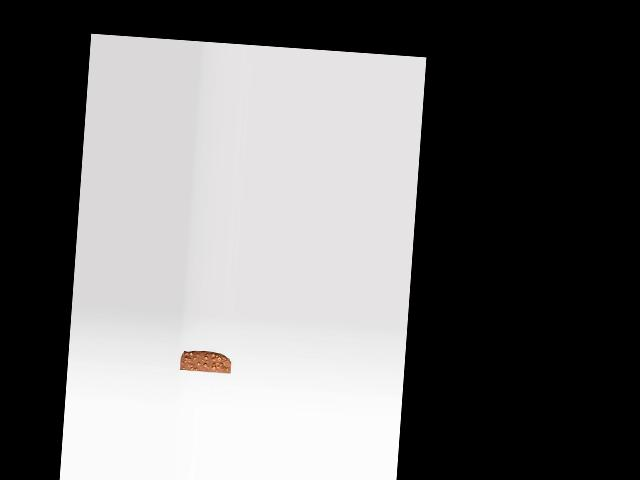chocolate: (179, 345, 232, 375)
